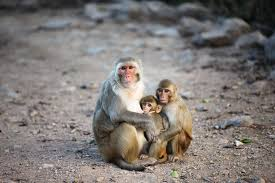monkey: (94, 26, 201, 169)
